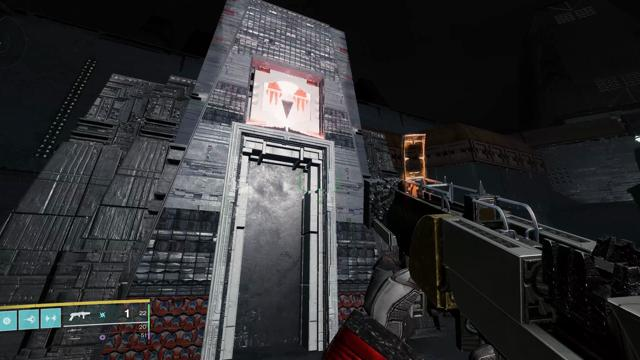give: (262, 80, 311, 122)
